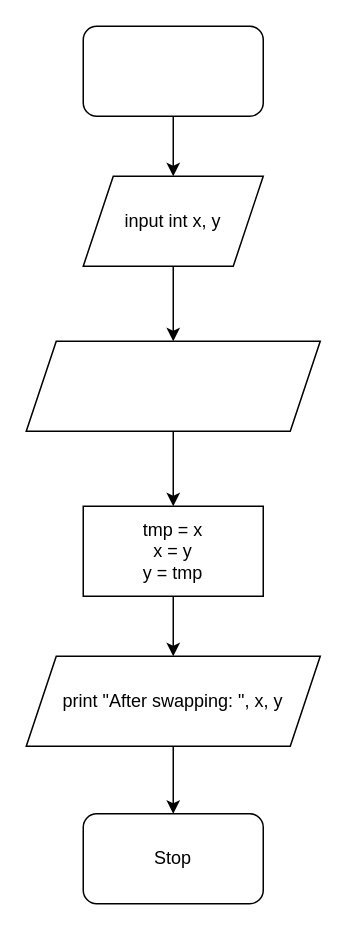
The diagram is 347 pixels wide and 930 high, and some of its shapes have lost their labels. Each missing label, with the centre of its shape:
print "Before swapping: ", x, y: point 172,385
Start: point 172,70
